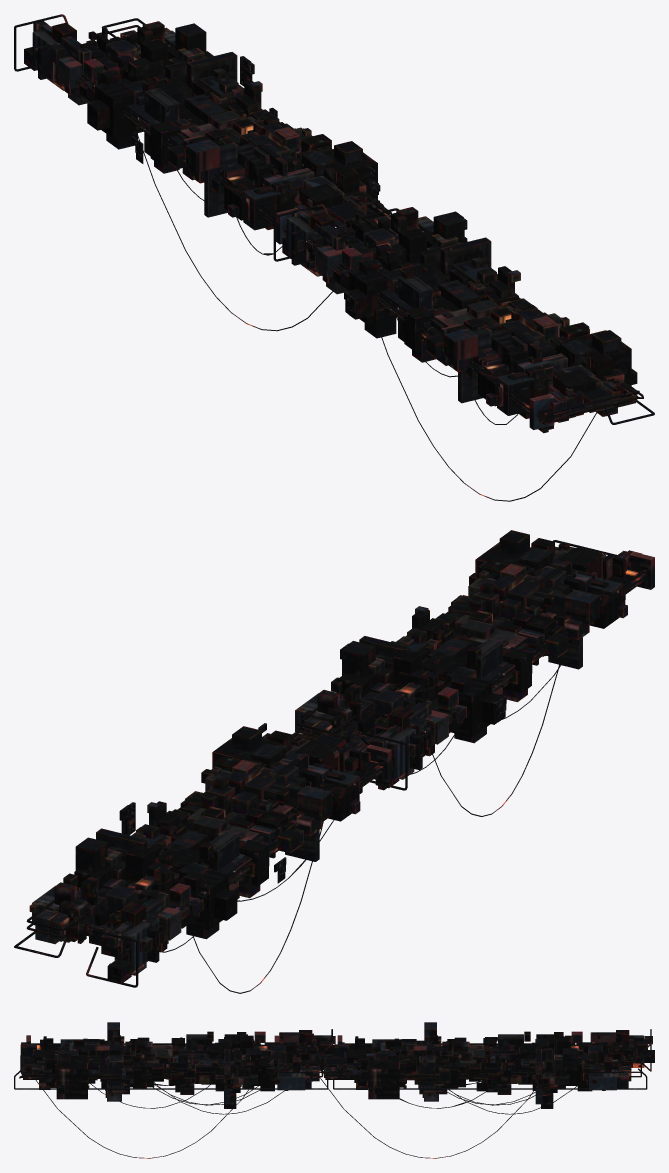
File: station_spine.glb
3 views of the same model, one above another, from view 1: azimuth 30°, elevation 25°; view 2: azimuth 150°, elevation 25°; view 3: azimuth 270°, elevation 25° (orthographic). The views are drawn at different scales.
Visible parts, largest first — view 1: spaceship_low, spaceship.001_low, spaceship.006_low, spaceship.005_low, spaceship.003_low, spaceship.004_low; view 2: spaceship_low, spaceship.001_low, spaceship.006_low, spaceship.005_low, spaceship.003_low, spaceship.004_low; view 3: spaceship_low, spaceship.001_low, spaceship.005_low, spaceship.006_low, spaceship.004_low, spaceship.003_low.
Boxes of the visible parts, bbox=[...] form: spaceship_low: bbox=[32, 21, 631, 433]; spaceship.001_low: bbox=[24, 21, 637, 431]; spaceship.006_low: bbox=[55, 50, 638, 424]; spaceship.005_low: bbox=[14, 14, 654, 424]; spaceship.003_low: bbox=[92, 56, 627, 381]; spaceship.004_low: bbox=[138, 135, 597, 501]; spaceship_low: bbox=[32, 538, 654, 974]; spaceship.001_low: bbox=[29, 530, 642, 984]; spaceship.006_low: bbox=[83, 546, 646, 932]; spaceship.005_low: bbox=[14, 540, 645, 987]; spaceship.003_low: bbox=[119, 562, 506, 901]; spaceship.004_low: bbox=[160, 664, 560, 993]; spaceship_low: bbox=[23, 1031, 644, 1104]; spaceship.001_low: bbox=[21, 1022, 654, 1108]; spaceship.005_low: bbox=[14, 1029, 651, 1089]; spaceship.006_low: bbox=[20, 1044, 624, 1079]; spaceship.004_low: bbox=[35, 1056, 576, 1158]; spaceship.003_low: bbox=[43, 1035, 564, 1091].
Bounding box in the file's own units: 0.1663 × 0.2164 × 1.02.
Materials: 1 (1 with a texture image).
